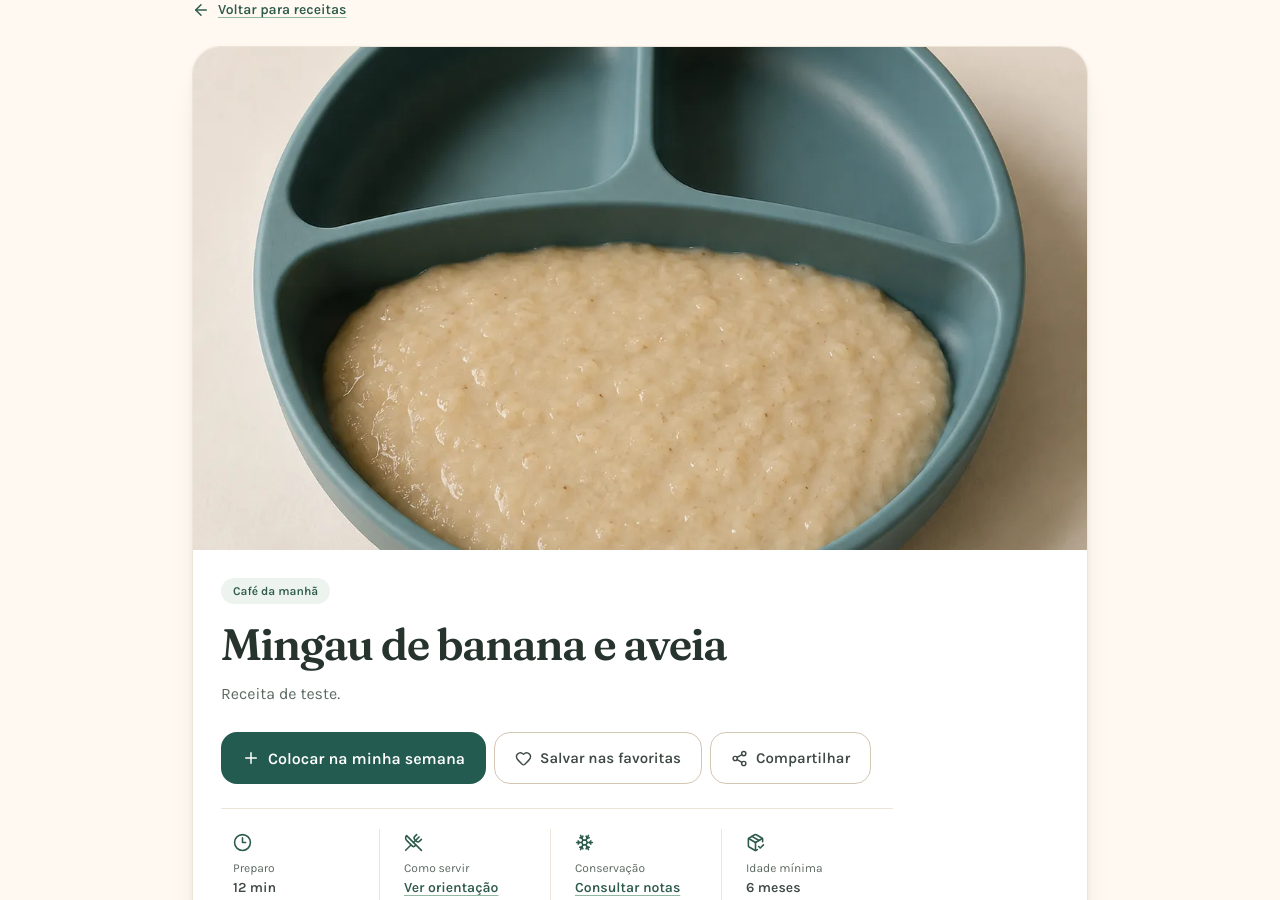
Test case: keeps the planner open and reports a failed save without a success claim
Click the button "Colocar na minha semana" at (354, 758), box [221, 732, 486, 784]
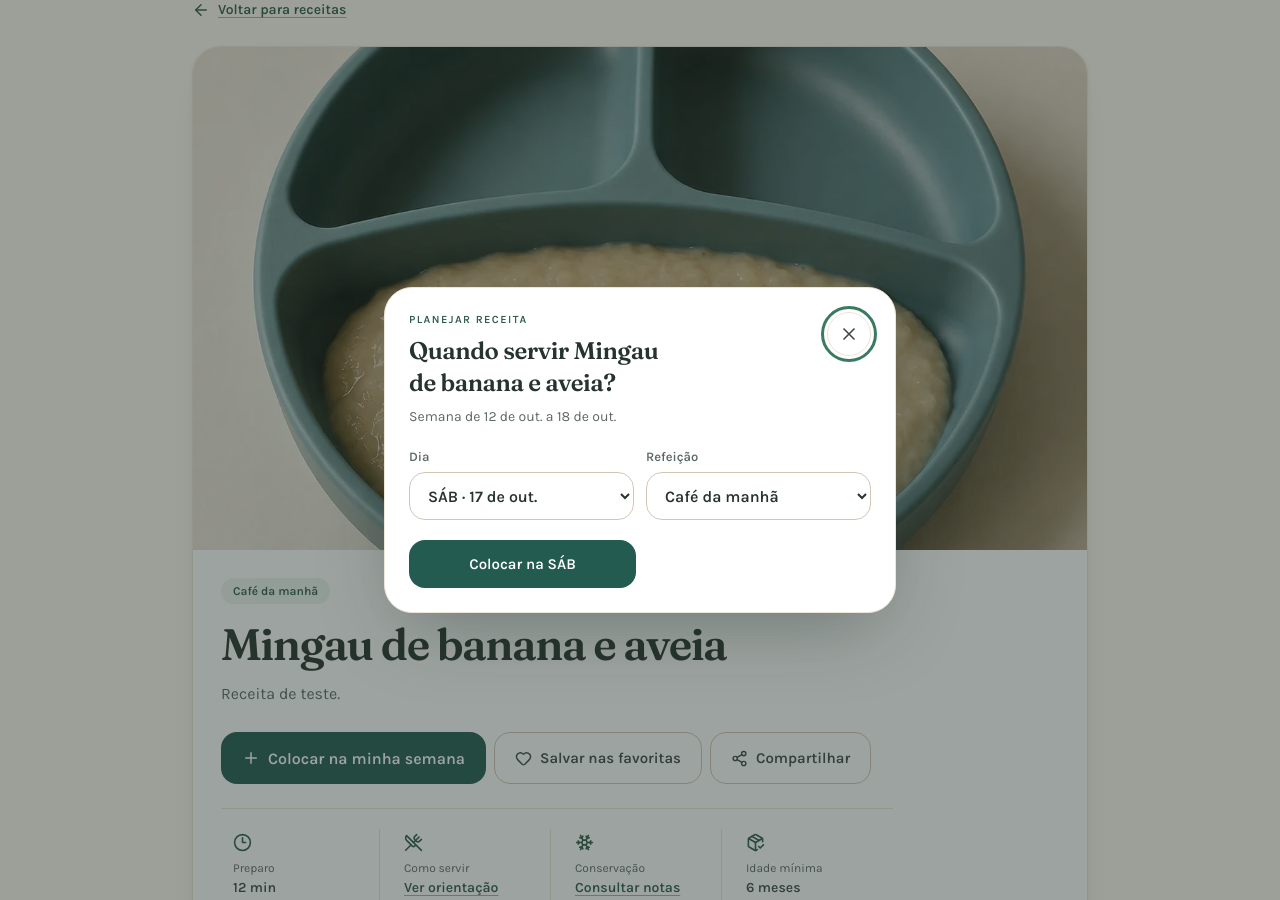
Click the button "Colocar na SÁB" at (522, 564), box [409, 540, 636, 588]
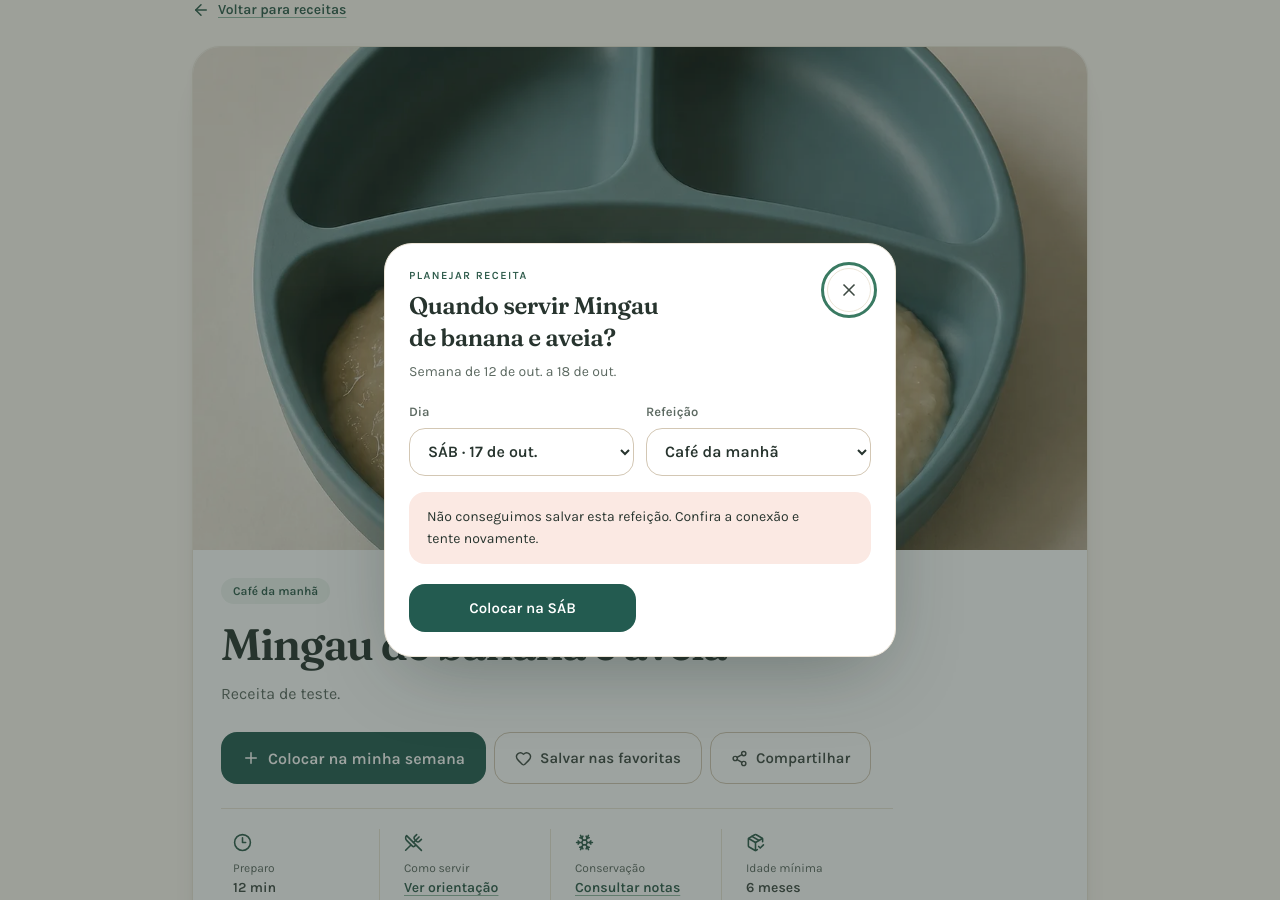
Check: the dialog is shown, box [384, 243, 896, 657]
Check: the message shows "Não conseguimos salvar", box [427, 508, 799, 547]
